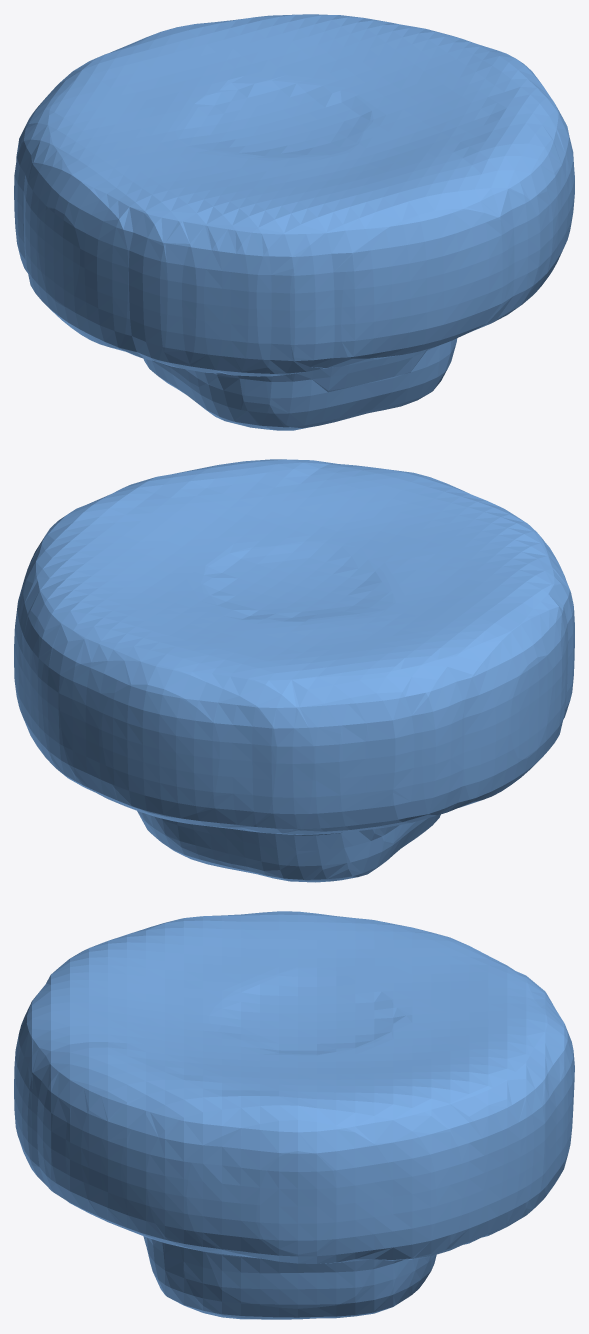
File: water_0005.glb
The picture shows the model from 3 angles, top to bottom: view 1: azimuth 30°, elevation 25°; view 2: azimuth 150°, elevation 25°; view 3: azimuth 270°, elevation 25°; orthographic projection.
Visible parts, largest first — view 1: Water_0005; view 2: Water_0005; view 3: Water_0005.
Part boxes in pixels (<box>): Water_0005: <box>14,14,574,430</box>; Water_0005: <box>14,459,574,882</box>; Water_0005: <box>14,911,574,1319</box>.
Size of the model in its own units: 1.71 by 0.9386 by 1.72.
